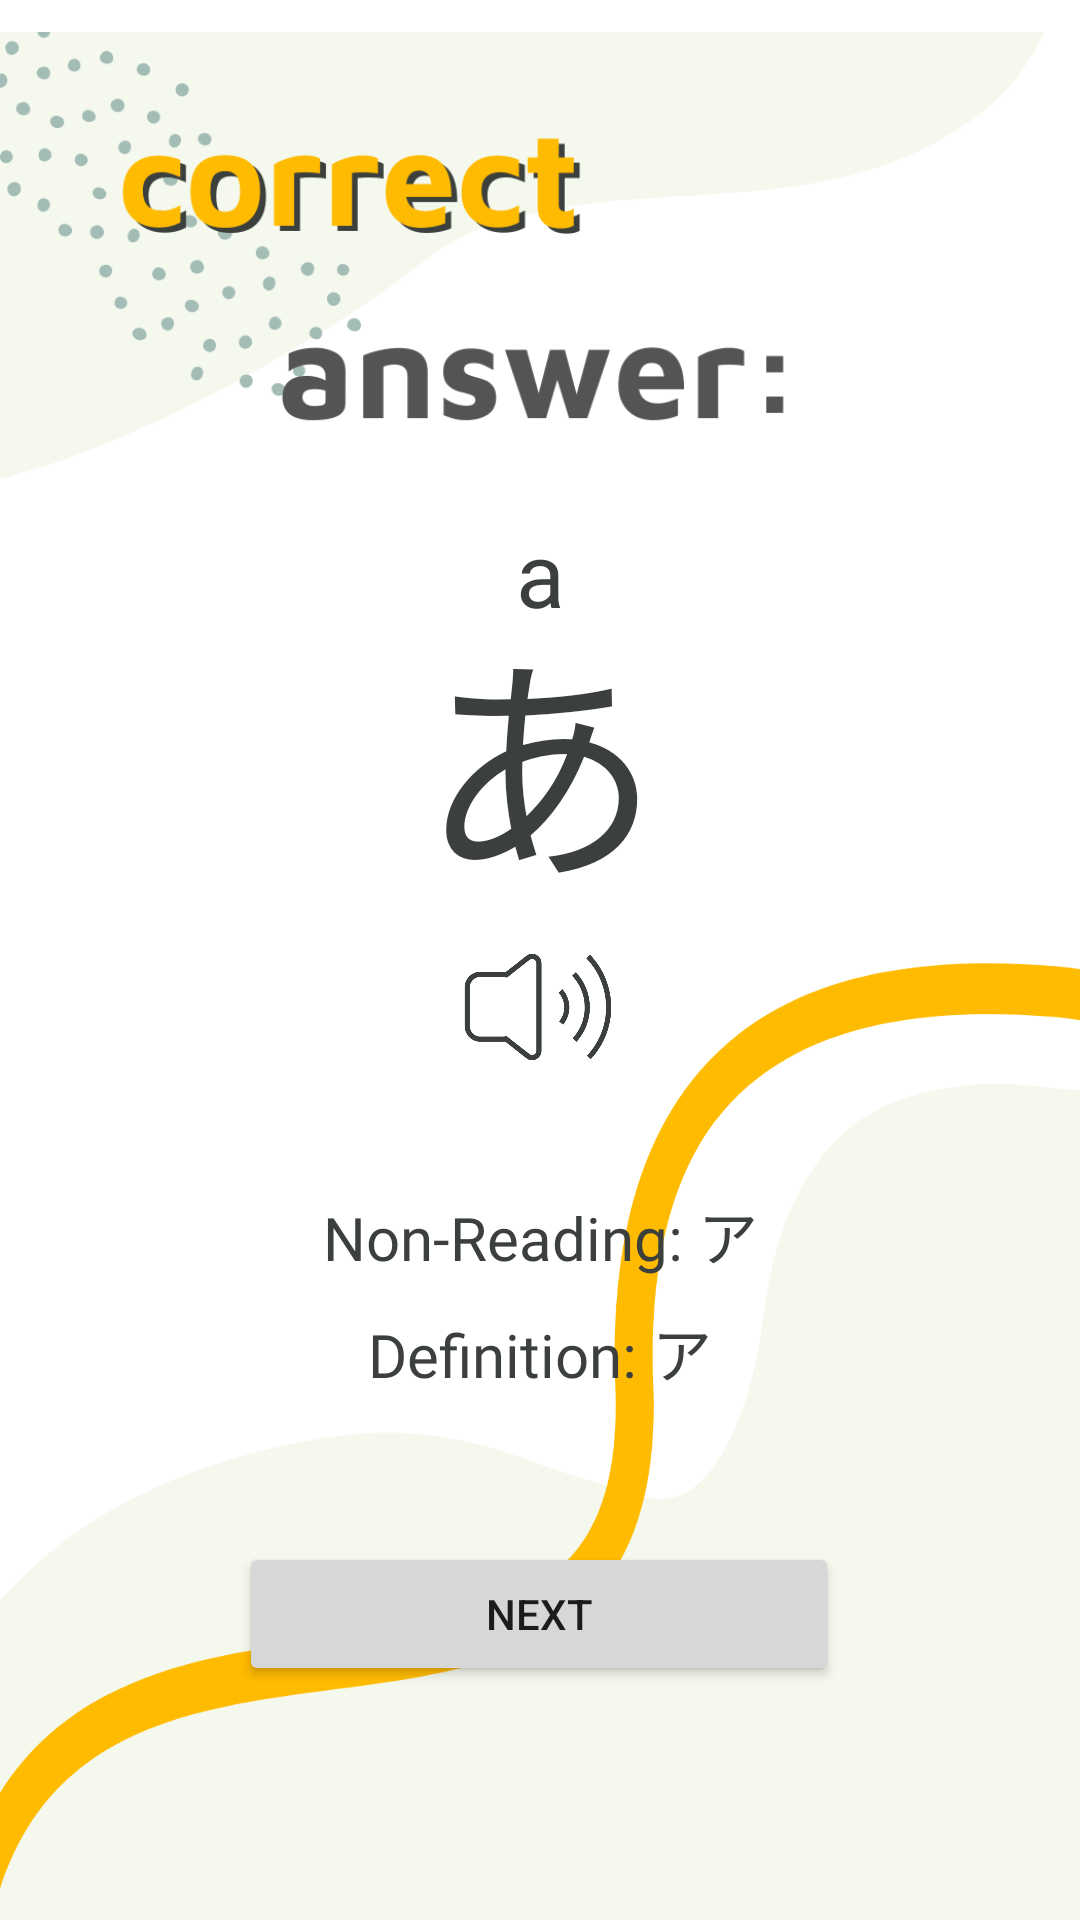

Named icons in this screenshot (1080px×1920px) and their centers, (x=x, y=y):
sound: (x=538, y=1007)
